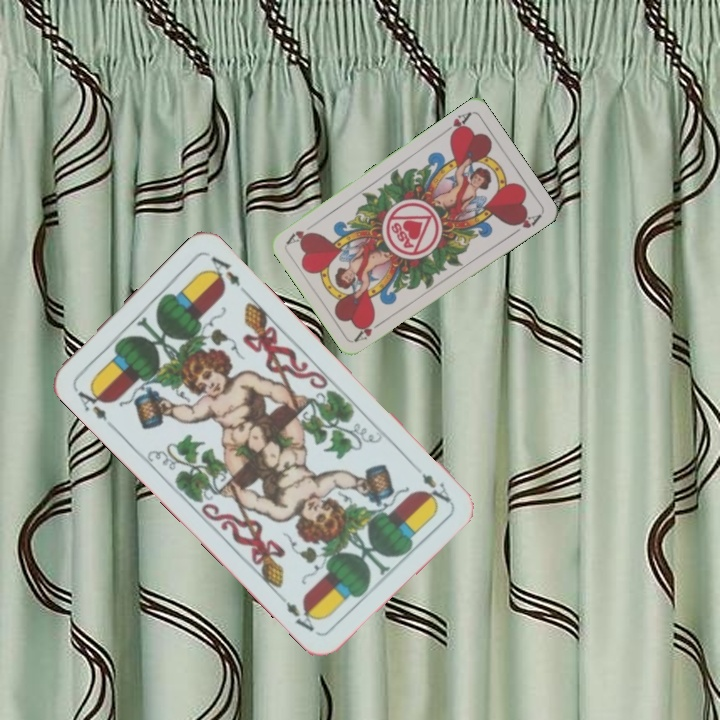EA: (70, 382, 111, 424), (417, 470, 454, 507)
HA: (438, 108, 474, 140), (351, 316, 388, 344)
